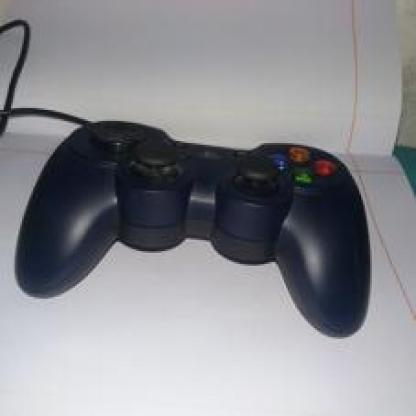gamepad: (28, 93, 384, 355)
